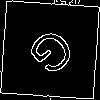G: (25, 25, 85, 86)
